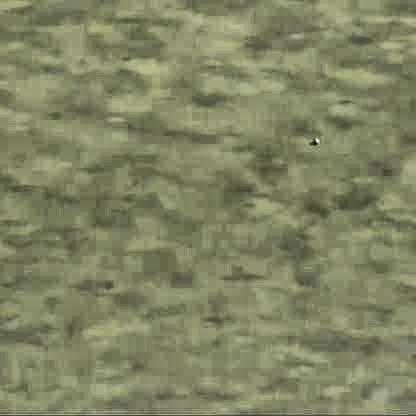golfball: (310, 133, 317, 143)
